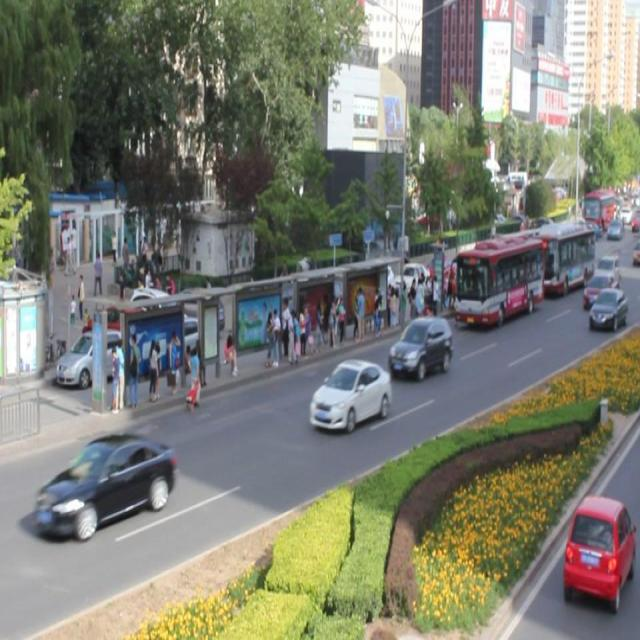BigCar: (458, 238, 549, 325), (538, 213, 594, 301)
car: (36, 425, 178, 550), (562, 484, 633, 612), (297, 353, 396, 438), (49, 325, 132, 392), (391, 309, 457, 389), (88, 304, 160, 364), (582, 288, 628, 332), (595, 254, 624, 296)
